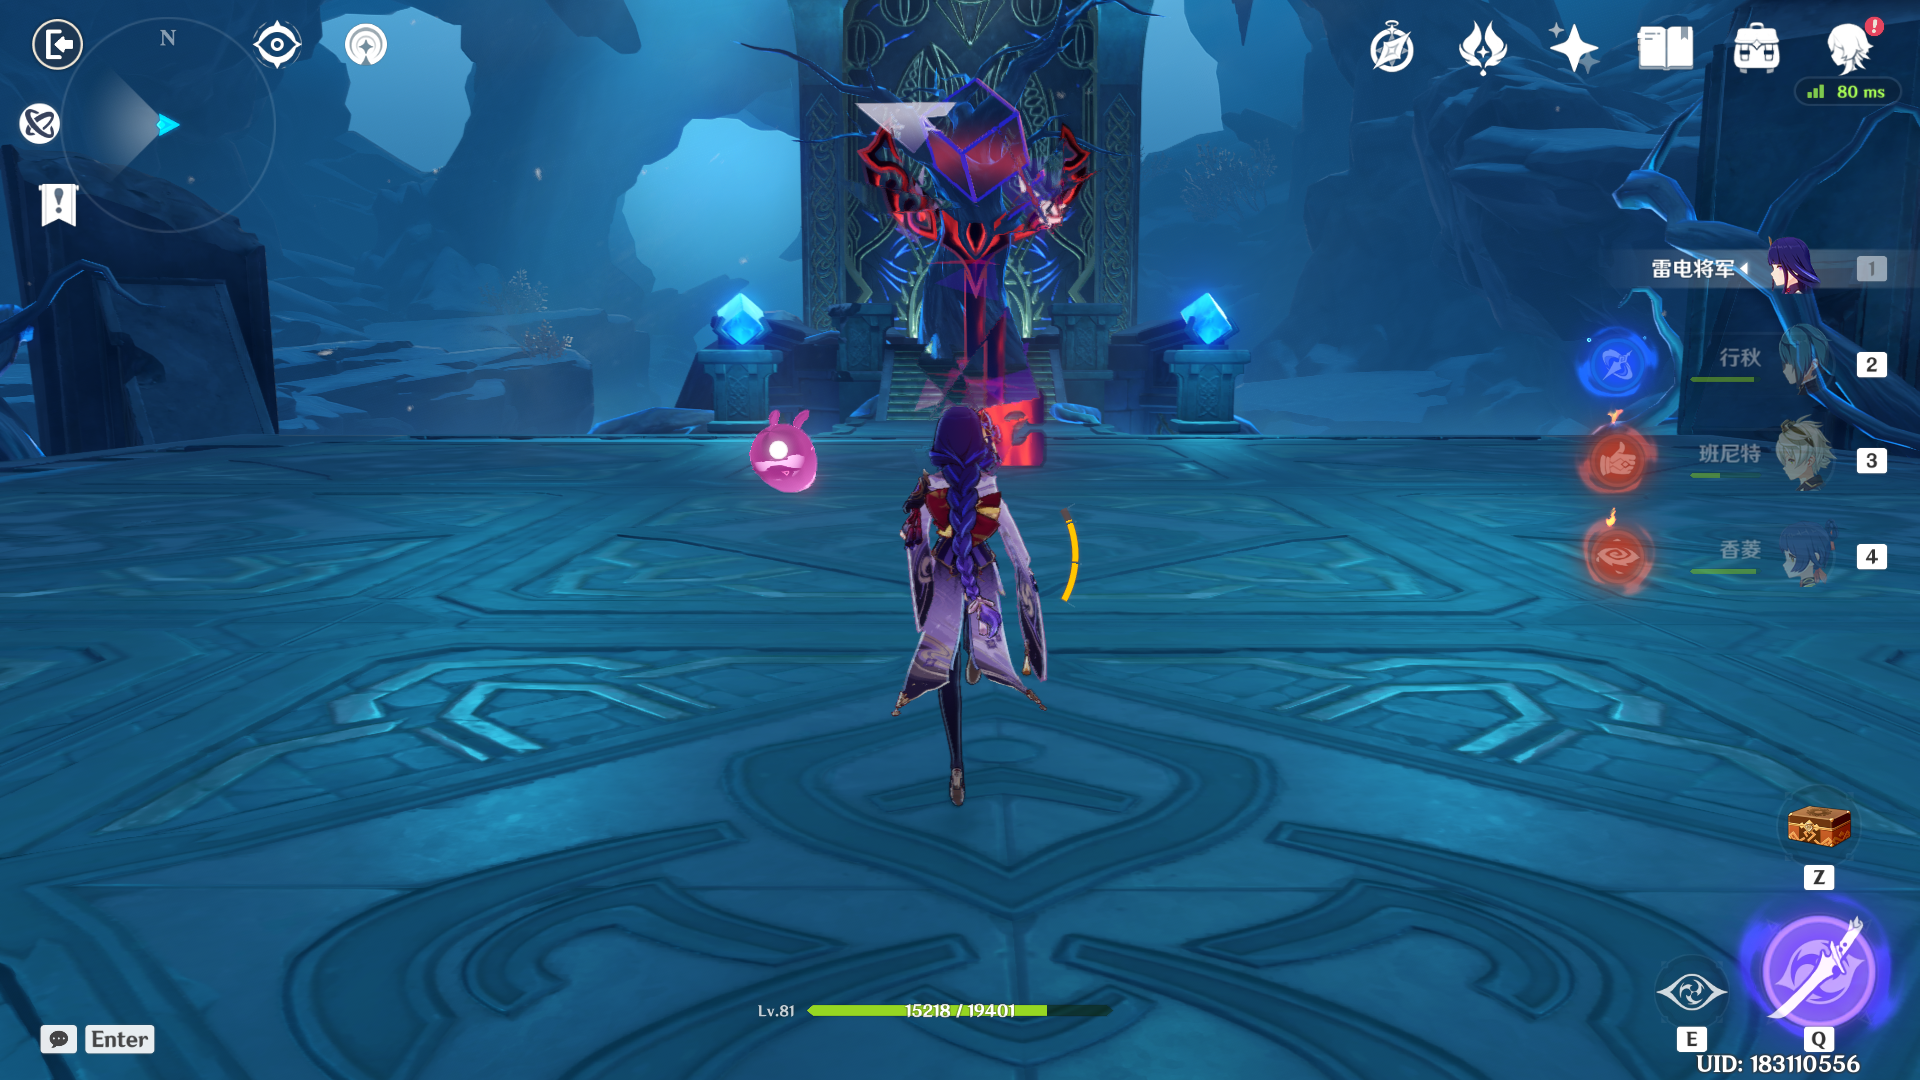character: (836, 382, 1127, 804)
